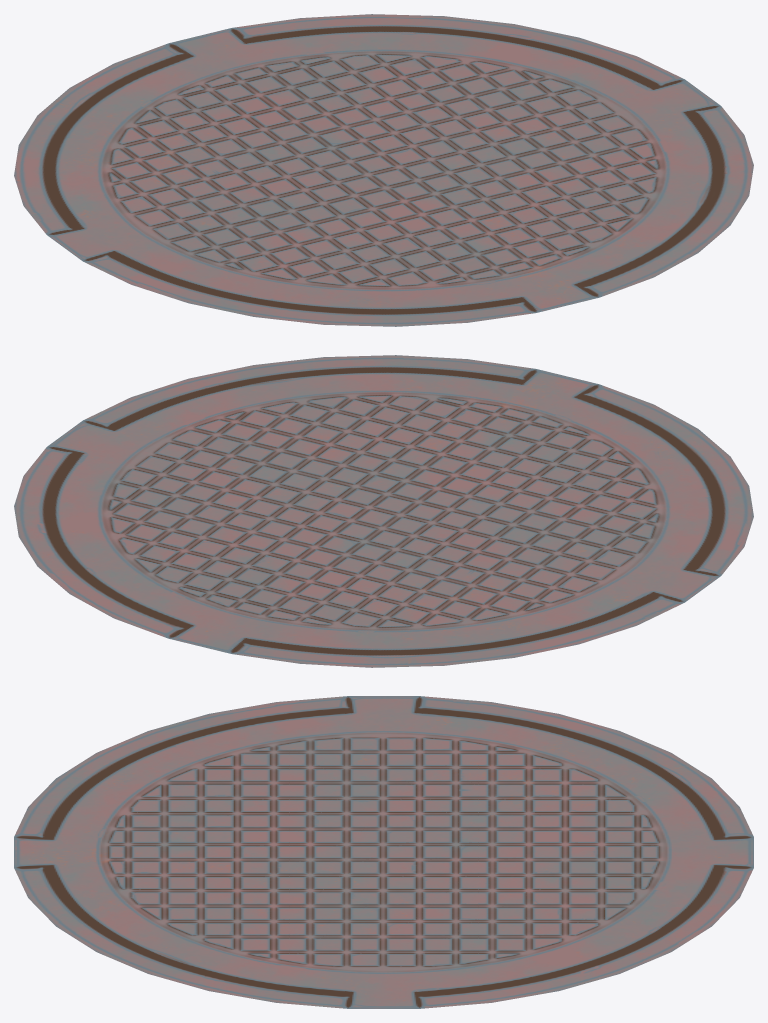
The model's file is sewer_hatch.gltf.
3 renders of one model, top to bottom at view 1: azimuth 30°, elevation 25°; view 2: azimuth 150°, elevation 25°; view 3: azimuth 270°, elevation 25°, orthographic.
Parts seen in each view (by area): view 1: Sewer hatch; view 2: Sewer hatch; view 3: Sewer hatch.
Part boxes in pixels (bbox=[...]): Sewer hatch: bbox=[14, 14, 753, 326]; Sewer hatch: bbox=[14, 355, 753, 667]; Sewer hatch: bbox=[14, 696, 753, 1008].
Size of the model in its own units: 0.677 by 0 by 0.6769.
1 material, 1 textured.
